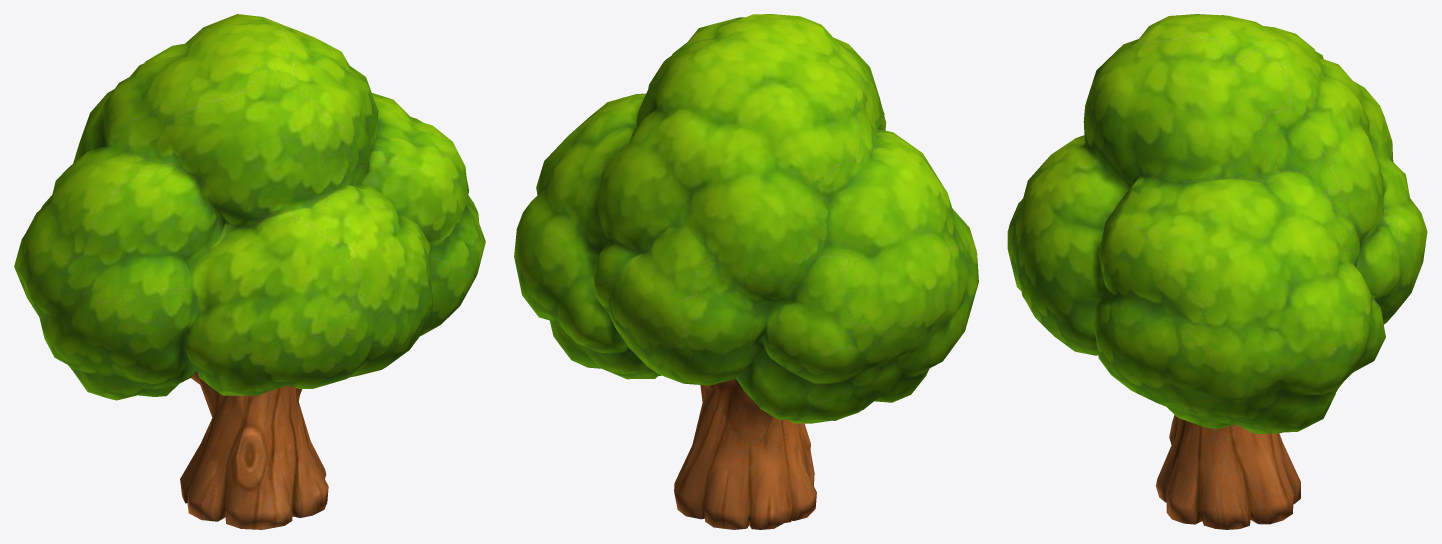
File: tree.glb
3 views of the same model, side by side, from view 1: azimuth 30°, elevation 25°; view 2: azimuth 150°, elevation 25°; view 3: azimuth 270°, elevation 25° (orthographic).
Parts seen in each view (by area): view 1: geometry_0; view 2: geometry_0; view 3: geometry_0.
Boxes of the visible parts, box(x1,y1,x2,y2) form: geometry_0: box(14, 14, 485, 529); geometry_0: box(514, 14, 978, 529); geometry_0: box(1007, 14, 1427, 529).
Bounding box in the file's own units: 0.8984 × 0.9521 × 0.7661.
1 material, 1 textured.
